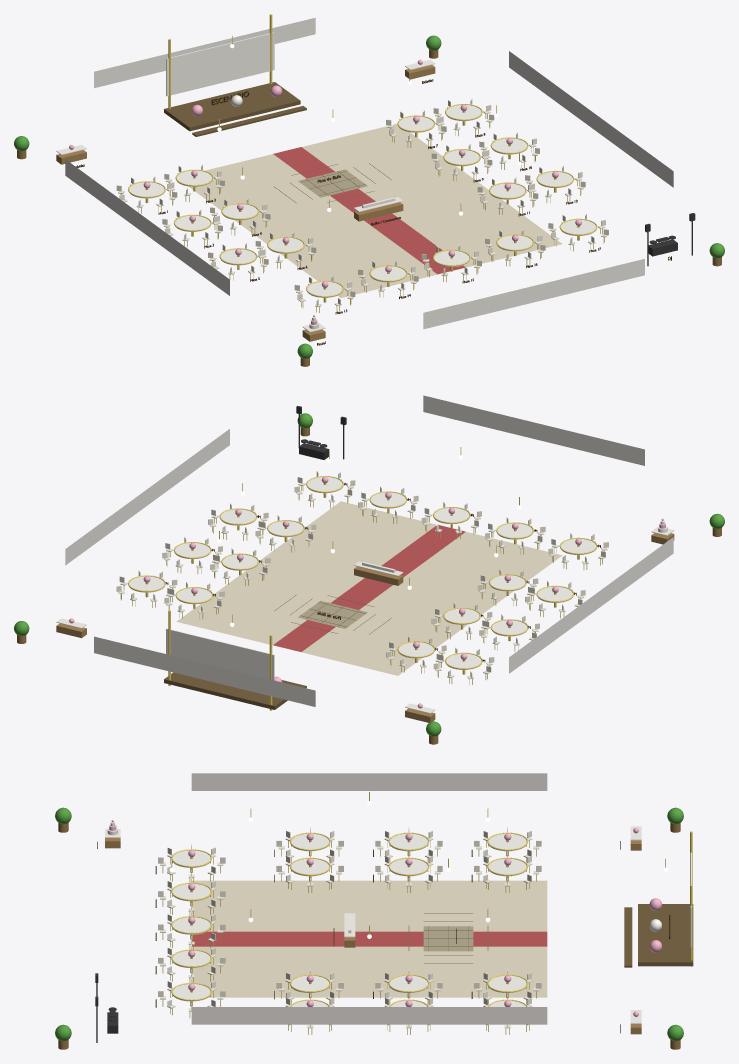
3 views of the same model, one above another, from view 1: azimuth 30°, elevation 25°; view 2: azimuth 150°, elevation 25°; view 3: azimuth 270°, elevation 25° (orthographic). The views are drawn at different scales.
Visible parts, largest first — view 1: Piso, Cortina, Pared_Sur, Alfombra, Escenario, Pared_Este, Pared_Oeste, Pared_Norte, Pista_Baile, Esc_Step; view 2: Piso, Pared_Norte, Pared_Sur, Alfombra, Pared_Oeste, Pared_Este, Cortina, Escenario, Pista_Baile; view 3: Piso, Pared_Este, Pared_Oeste, Alfombra, Escenario, Pista_Baile, Esc_Step, Tablero_2, Tablero_6, Tablero_14, Tablero_1, Tablero_5 (+9 smaller).
Boxes of the visible parts, x1,y1,x2,y2 form: Piso: (188, 124, 561, 297); Cortina: (166, 32, 274, 96); Pared_Sur: (423, 259, 644, 329); Alfombra: (273, 147, 464, 274); Escenario: (164, 82, 300, 131); Pared_Este: (509, 51, 673, 187); Pared_Oeste: (65, 159, 229, 295); Pared_Norte: (94, 17, 315, 88); Pista_Baile: (298, 169, 367, 197); Esc_Step: (192, 106, 306, 136); Piso: (176, 501, 562, 675); Pared_Norte: (94, 636, 315, 706); Pared_Sur: (423, 395, 644, 465); Alfombra: (273, 525, 465, 651); Pared_Oeste: (509, 537, 673, 673); Pared_Este: (65, 429, 229, 565); Cortina: (166, 628, 274, 680); Escenario: (164, 672, 287, 709); Pista_Baile: (298, 600, 367, 628); Piso: (192, 880, 547, 997); Pared_Este: (191, 1007, 547, 1024); Pared_Oeste: (191, 773, 547, 790); Alfombra: (192, 931, 547, 946); Escenario: (638, 904, 693, 966); Pista_Baile: (423, 926, 473, 951); Esc_Step: (624, 907, 632, 967); Tablero_2: (488, 858, 526, 876); Tablero_6: (291, 858, 329, 876); Tablero_14: (172, 883, 210, 901); Tablero_1: (488, 833, 526, 851); Tablero_5: (291, 833, 329, 851).
Bounding box in the file's own units: 28 × 4.52 × 36.
